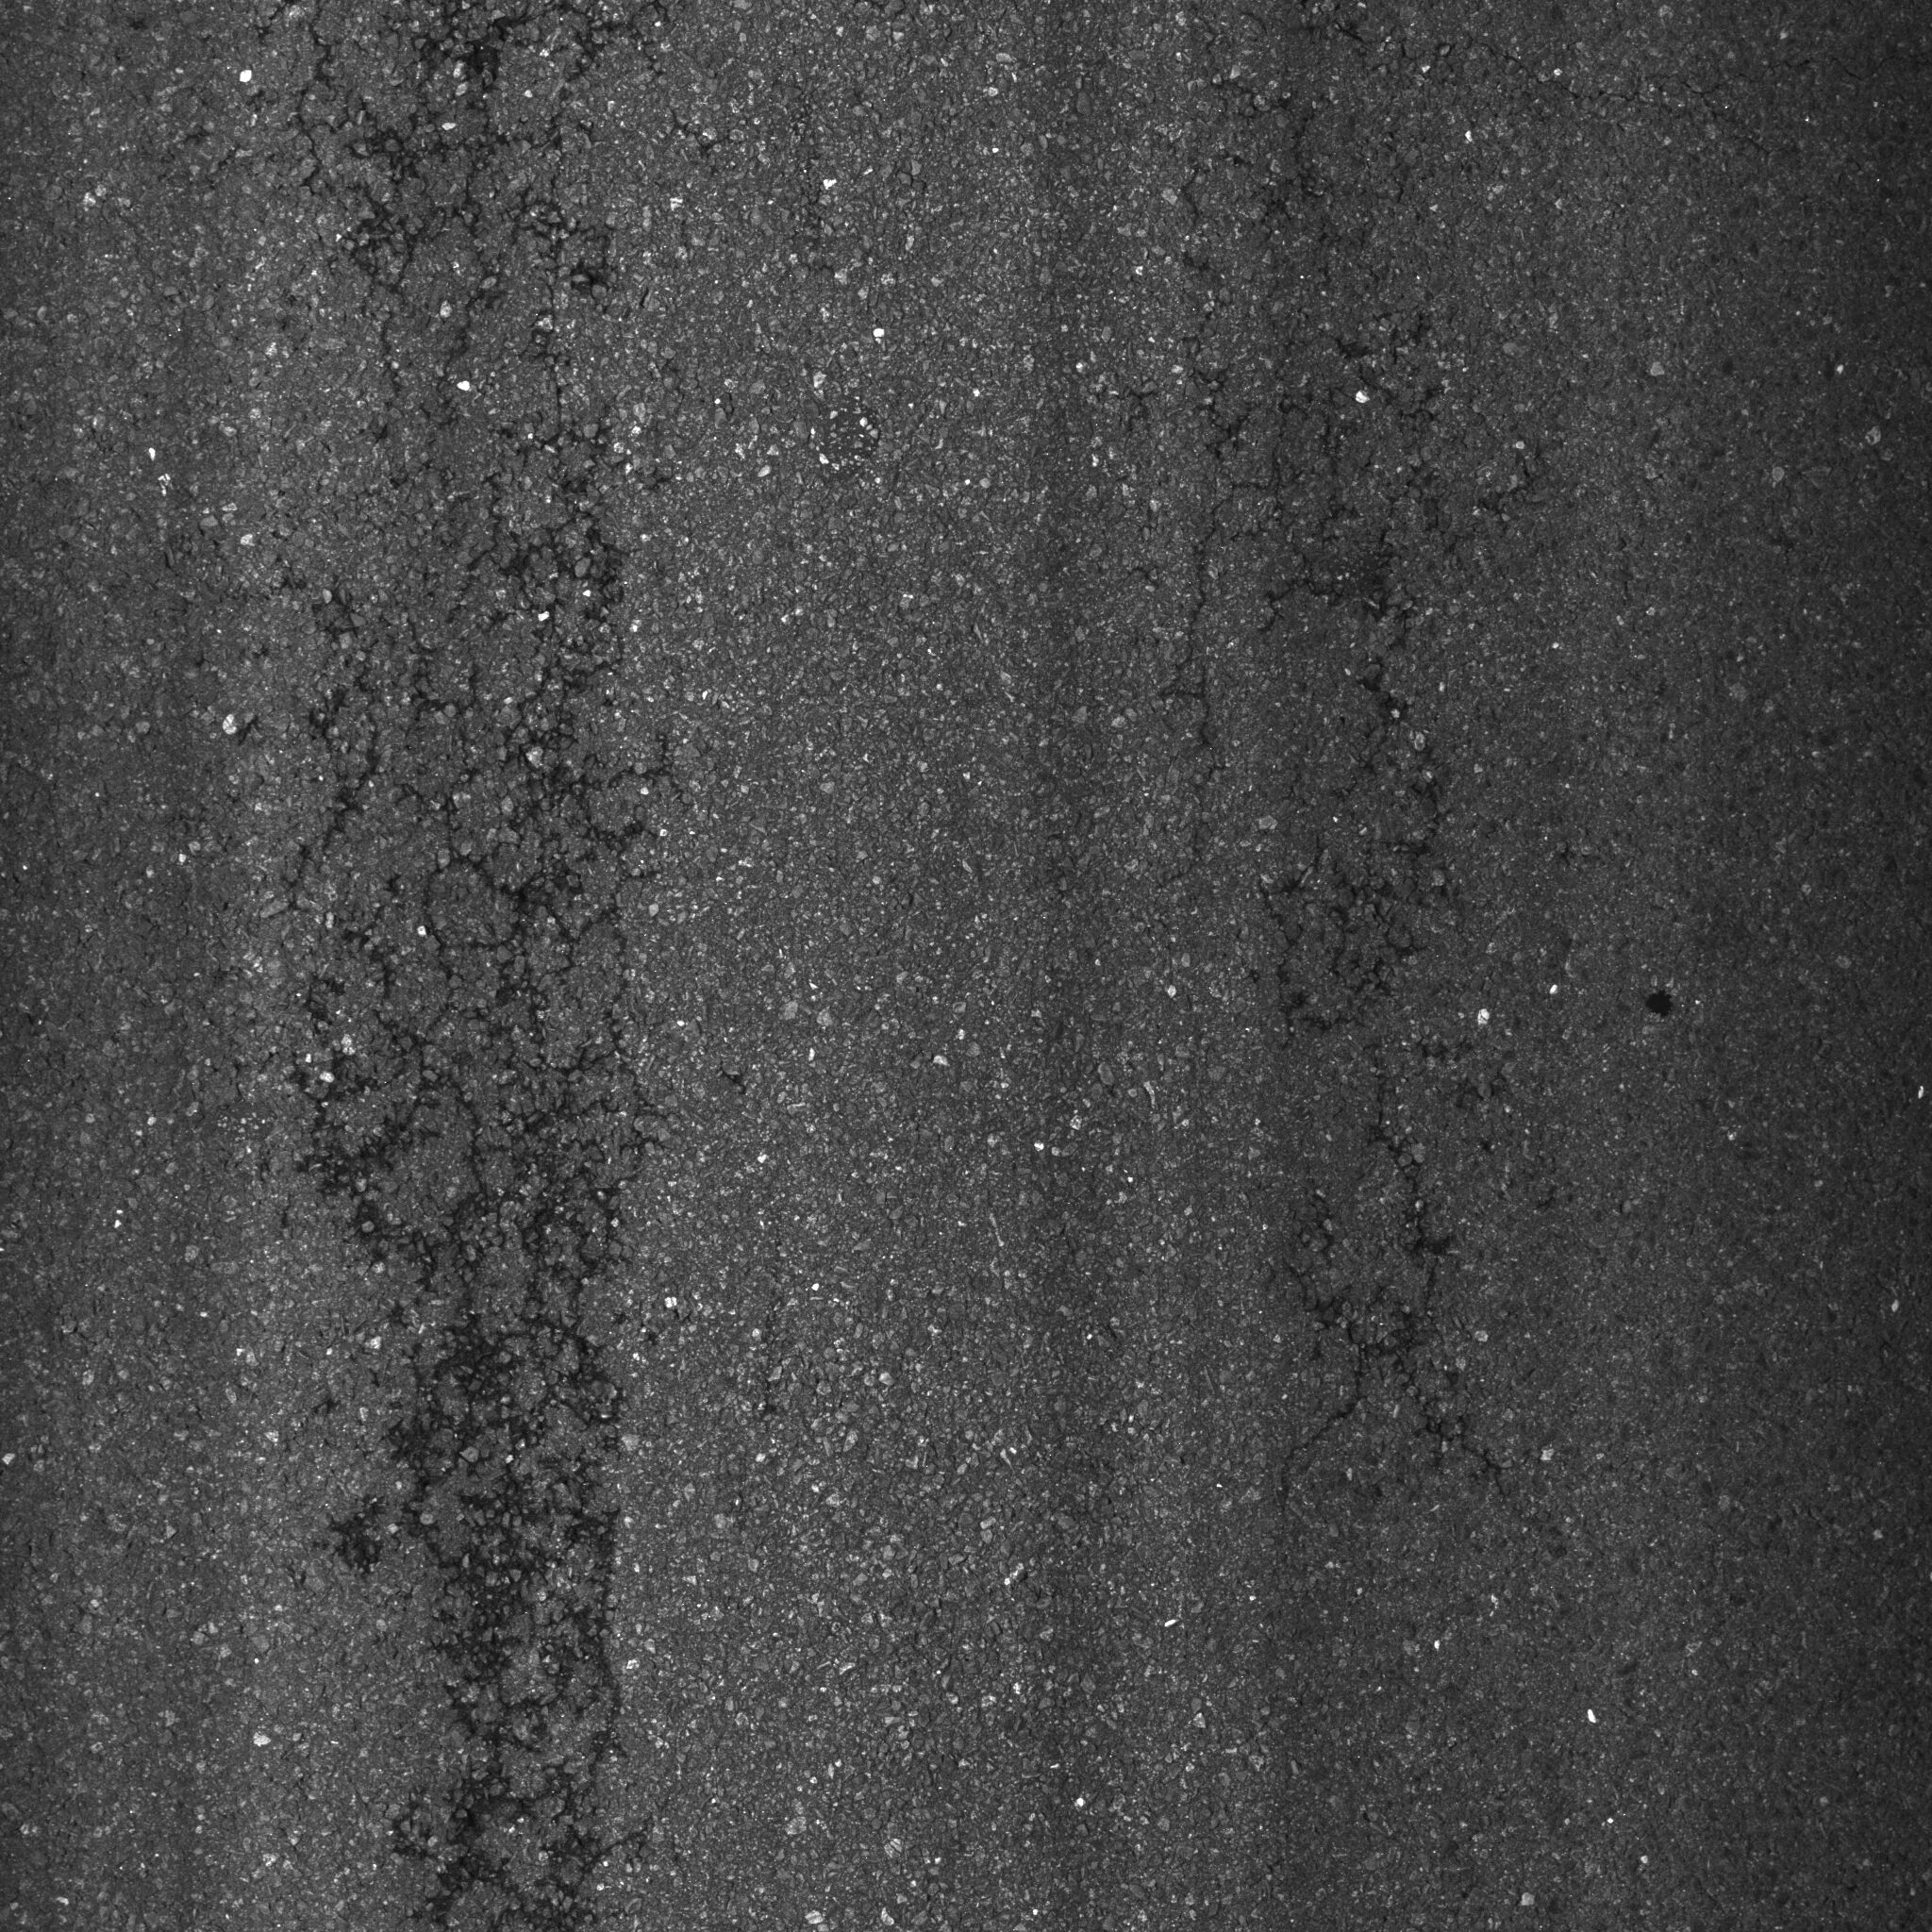alligator: (172, 5, 787, 1932), (1093, 133, 1582, 1550)
